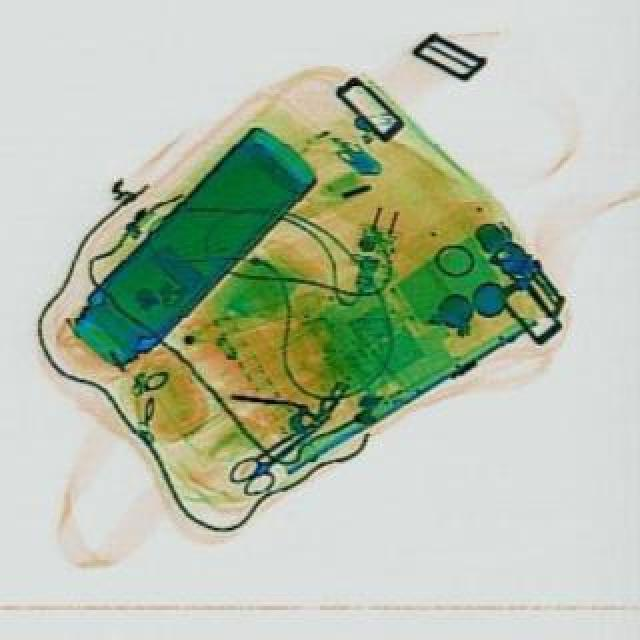pliers: (228, 420, 332, 508)
